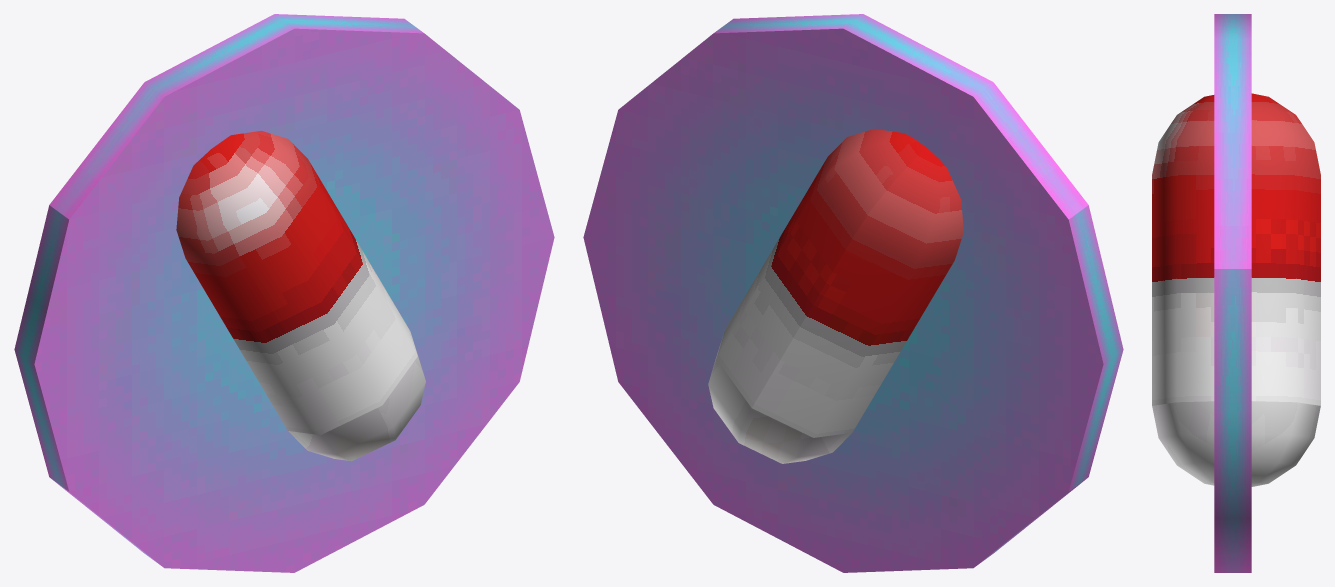
Rendered from Adrenaline.fbx.
3 views of the same model, side by side, from view 1: azimuth 30°, elevation 25°; view 2: azimuth 150°, elevation 25°; view 3: azimuth 270°, elevation 25° (orthographic). The views are drawn at different scales.
Parts seen in each view (by area): view 1: adrenaline_l0; view 2: adrenaline_l0; view 3: adrenaline_l0.
Boxes of the visible parts, box(x1,y1,x2,y2) form: adrenaline_l0: box(14, 14, 554, 572); adrenaline_l0: box(583, 14, 1123, 572); adrenaline_l0: box(1152, 14, 1320, 572).
Size of the model in its own units: 60 by 60 by 18.05.
